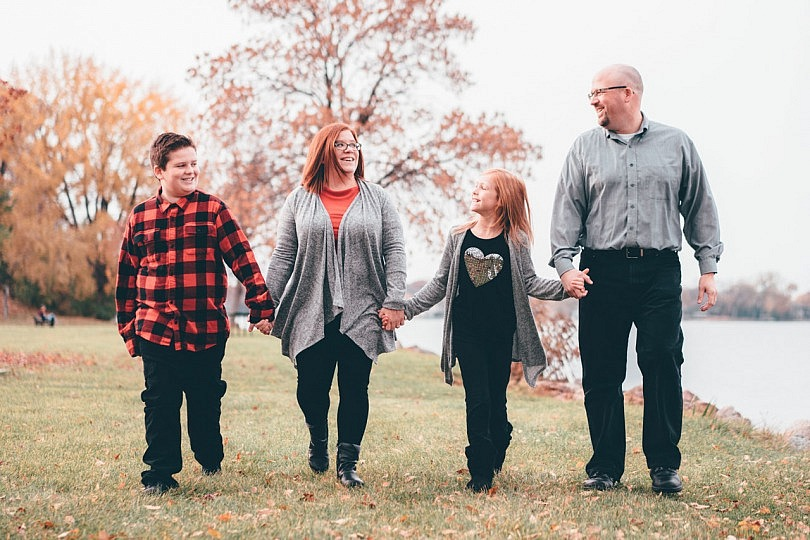person: (539, 50, 708, 278), (271, 99, 413, 340), (410, 162, 552, 394), (120, 131, 254, 347)
